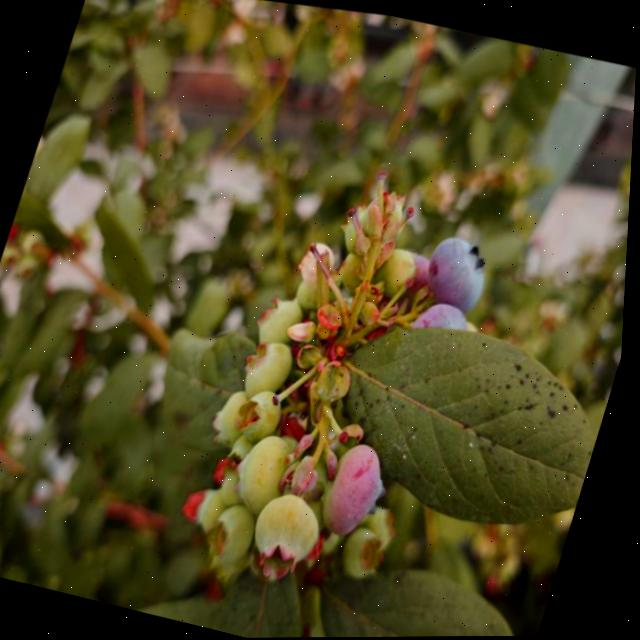Semi-RipeBlueBerry: (313, 434, 405, 549), (415, 227, 503, 322)
UnripeBlueBerry: (240, 479, 341, 592)
